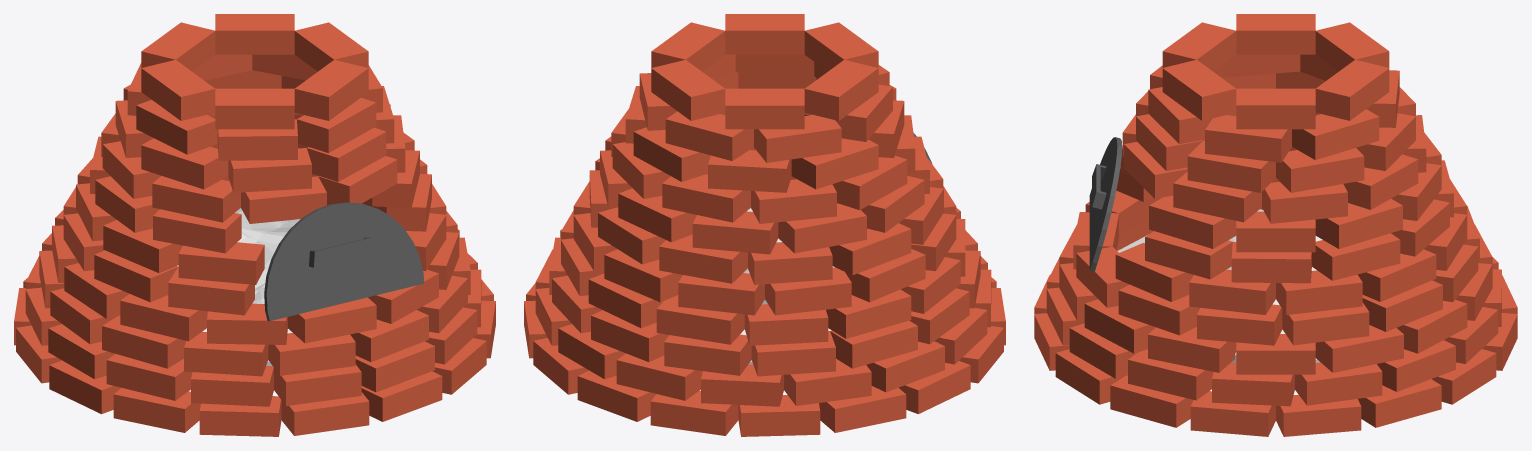
File: Furnace.fbx
The picture shows the model from 3 angles, left to right: view 1: azimuth 30°, elevation 25°; view 2: azimuth 150°, elevation 25°; view 3: azimuth 270°, elevation 25°; orthographic projection.
Parts seen in each view (by area): view 1: Cylinder.005; view 2: Cylinder.005; view 3: Cylinder.005.
Part boxes in pixels (box(x1,y1,x2,y2)): Cylinder.005: box(14, 14, 495, 436); Cylinder.005: box(524, 14, 1005, 436); Cylinder.005: box(1034, 14, 1517, 436).
Size of the model in its own units: 183 by 115 by 183.
